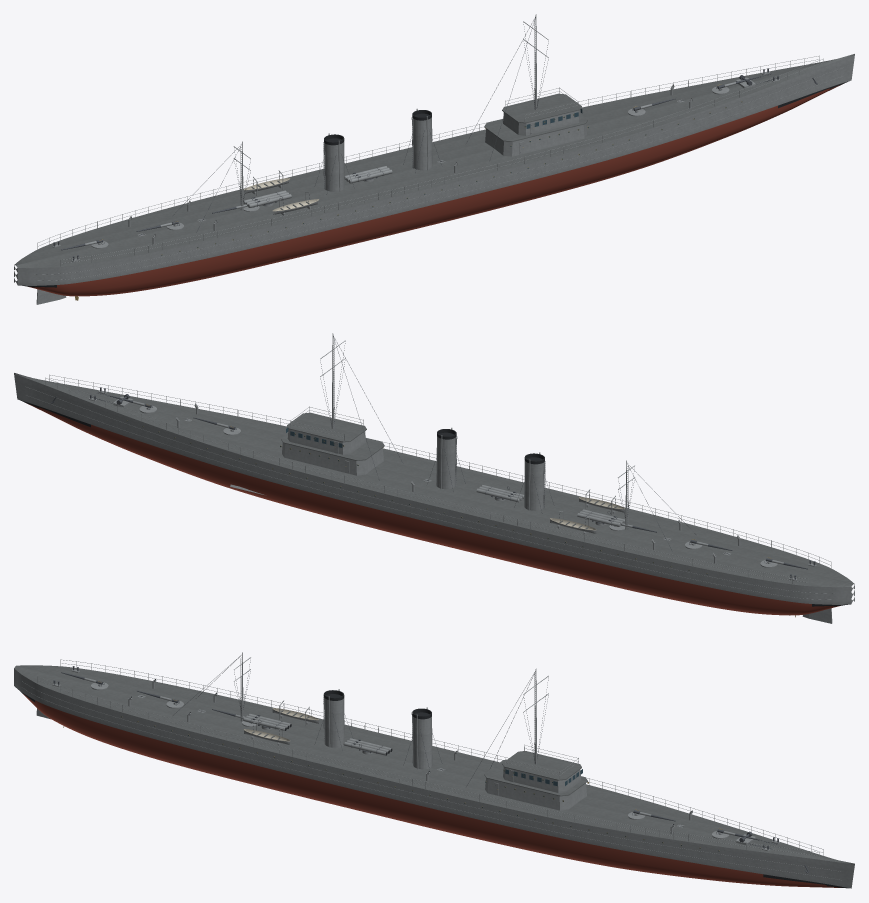
The model's file is fallback-dl.glb.
3 views of the same model, one above another, from view 1: azimuth 30°, elevation 25°; view 2: azimuth 150°, elevation 25°; view 3: azimuth 330°, elevation 25° (orthographic).
Visible parts, largest first — view 1: Original DL custom-design concept; view 2: Original DL custom-design concept; view 3: Original DL custom-design concept.
Part boxes in pixels (x1,y1,x2,y2): Original DL custom-design concept: [14, 14, 854, 304]; Original DL custom-design concept: [14, 333, 854, 623]; Original DL custom-design concept: [14, 652, 854, 888].
Bounding box in the file's own units: 126 × 24.54 × 12.19.
8 materials, 2 textured.
